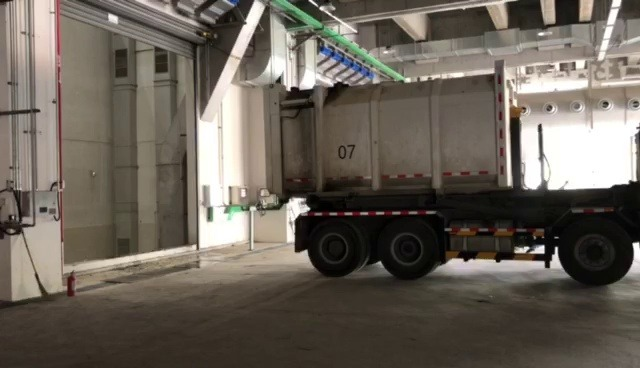truck: (257, 72, 640, 300)
